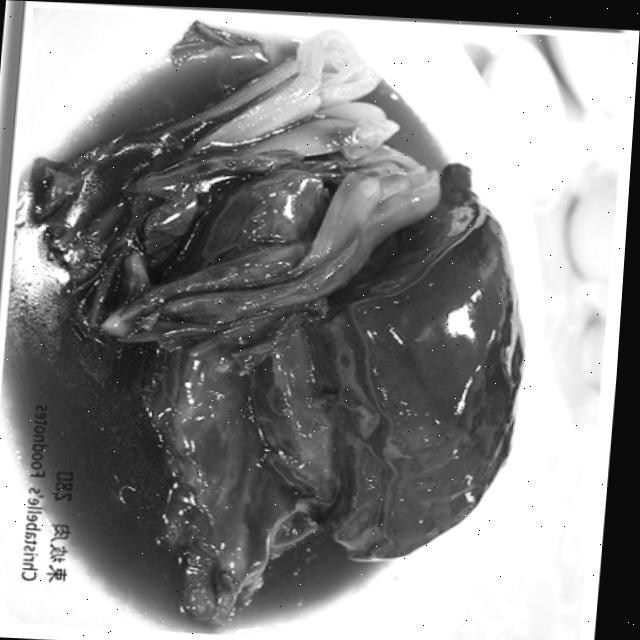牛肉菜式: (0, 44, 596, 612)
